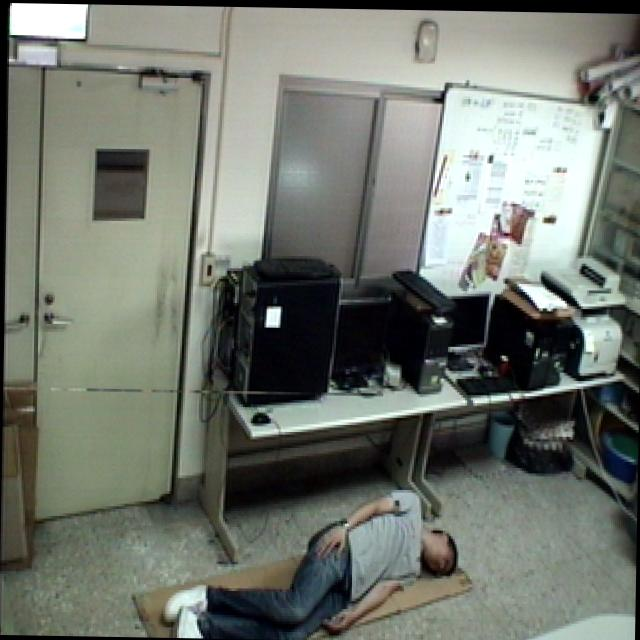lie: (152, 485, 463, 640)
